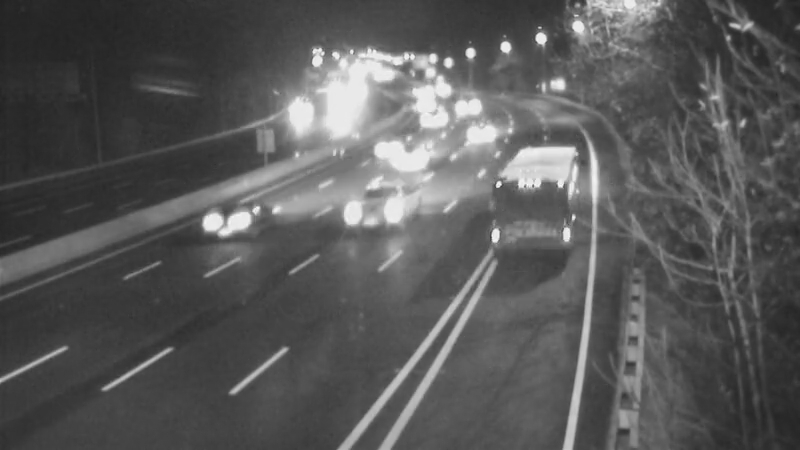vehicle: (366, 122, 446, 202), (489, 158, 569, 238), (340, 165, 420, 245), (178, 181, 258, 261), (392, 82, 442, 132), (439, 83, 489, 133), (406, 96, 456, 146), (458, 110, 508, 160), (360, 116, 410, 166), (277, 91, 327, 141)
